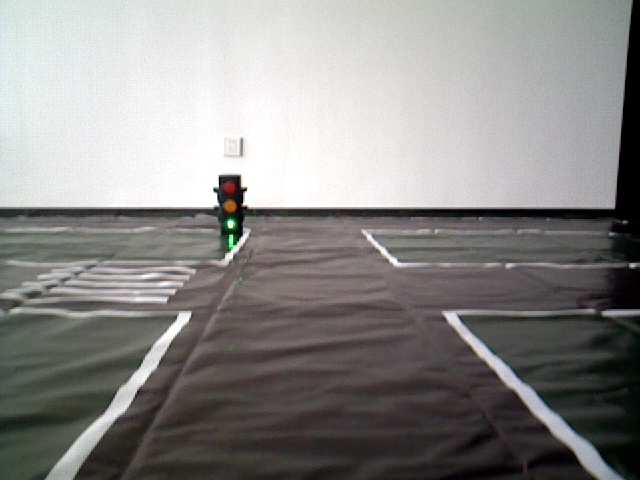green: (215, 176, 244, 233)
